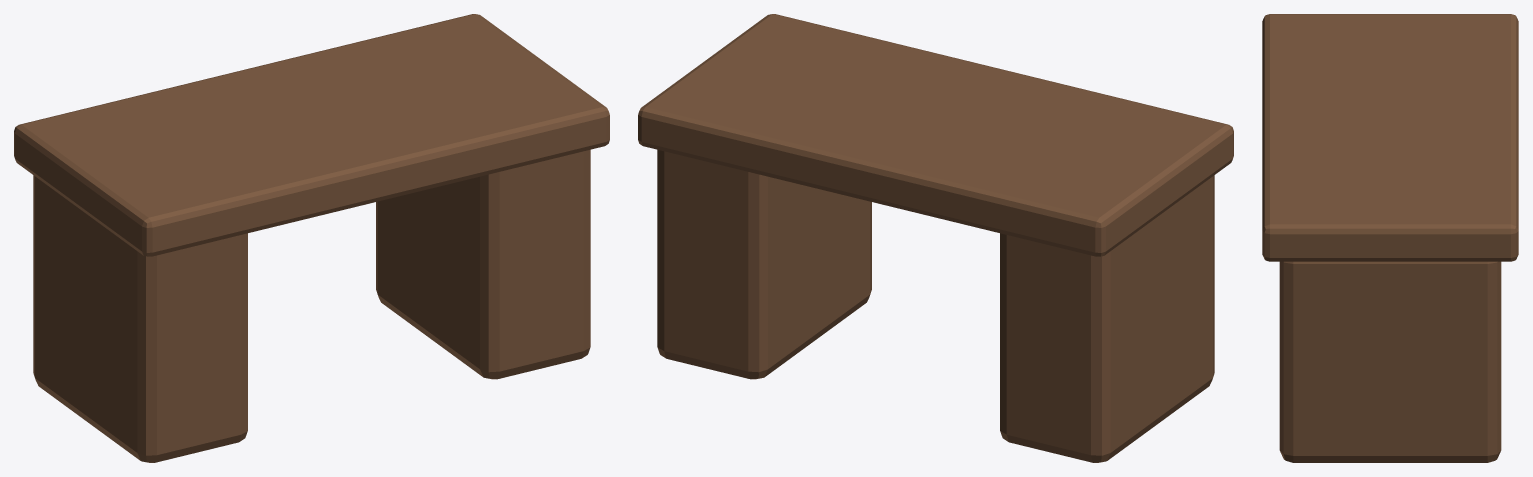
The model's file is OfficeDesk_01.fbx.
3 views of the same model, side by side, from view 1: azimuth 30°, elevation 25°; view 2: azimuth 150°, elevation 25°; view 3: azimuth 270°, elevation 25° (orthographic). The views are drawn at different scales.
Parts seen in each view (by area): view 1: Top, PedestalL, PedestalR; view 2: Top, PedestalL, PedestalR; view 3: Top, PedestalR.
Boxes of the visible parts, x1,y1,x2,y2 form: Top: [14, 14, 609, 256]; PedestalL: [33, 175, 247, 462]; PedestalR: [376, 149, 590, 379]; Top: [638, 14, 1233, 256]; PedestalL: [1000, 175, 1214, 462]; PedestalR: [657, 149, 871, 379]; Top: [1262, 14, 1518, 261]; PedestalR: [1279, 261, 1501, 462].
Bounding box in the file's own units: 1.5 × 0.79 × 0.75.
